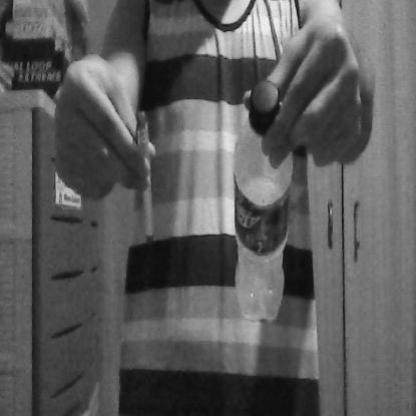Plastic Bottle: (224, 74, 298, 335)
